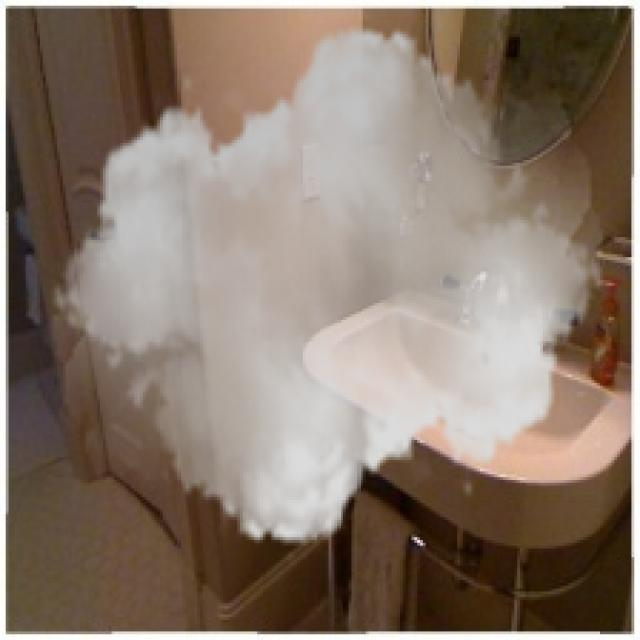smoke: (51, 6, 603, 566)
